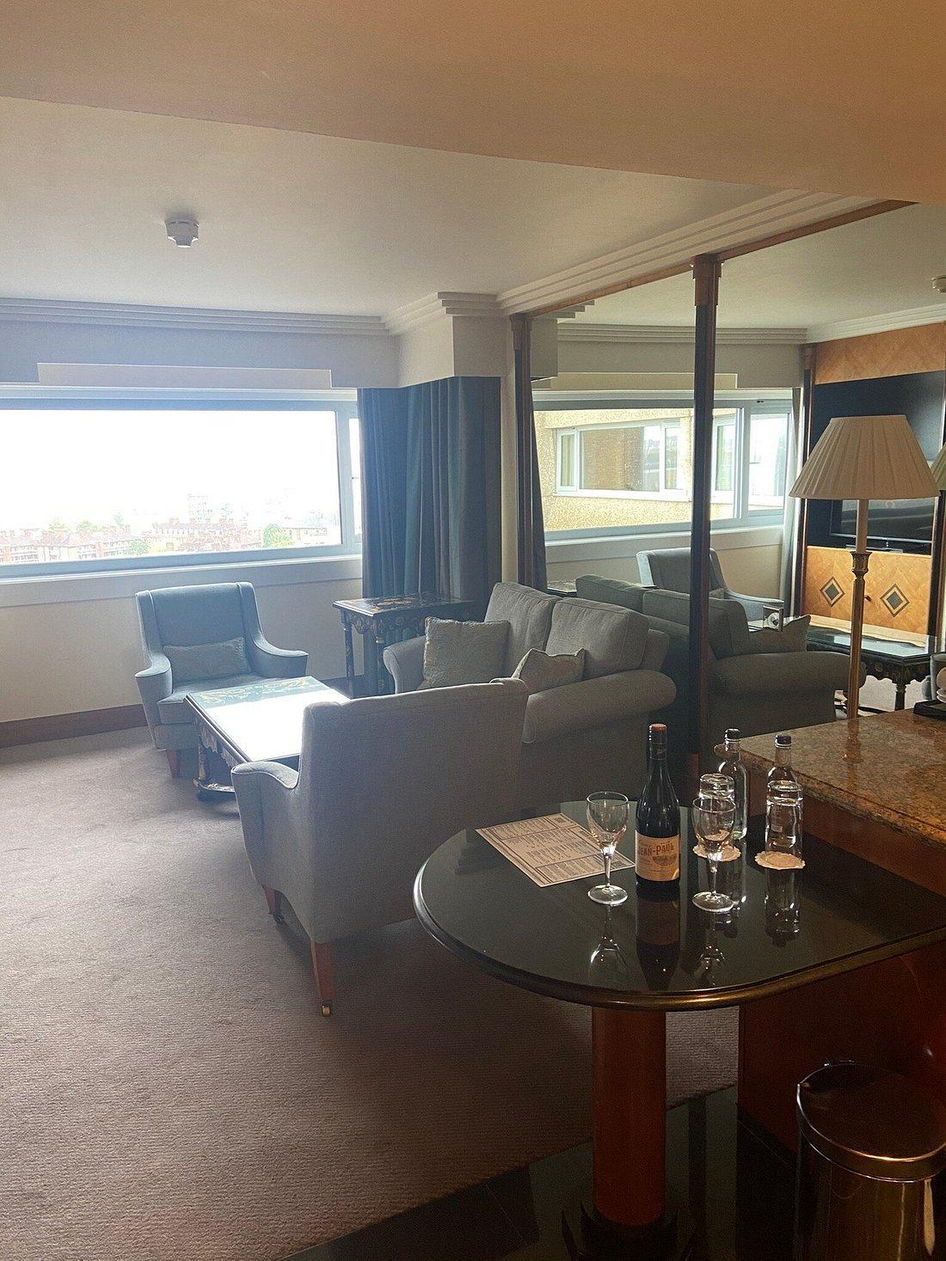chair: (264, 709, 542, 1014), (142, 591, 295, 701)
clean_floor: (0, 752, 267, 1261)
lamp: (808, 410, 942, 728)
organized table: (482, 728, 905, 1019)
